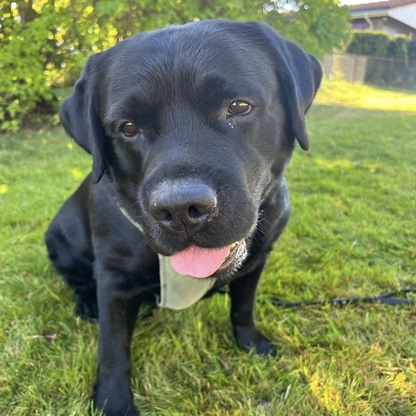labrado: (40, 15, 327, 416)
